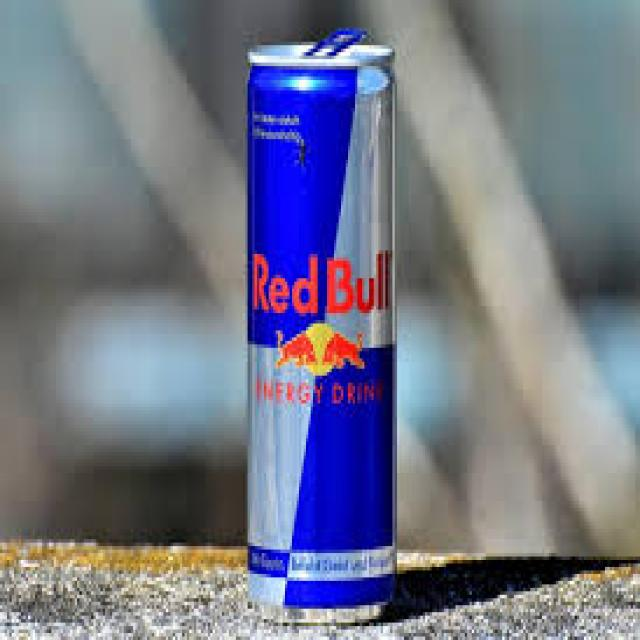red-bull: (246, 31, 398, 612)
